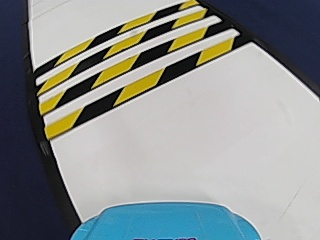bump: (49, 13, 197, 109)
